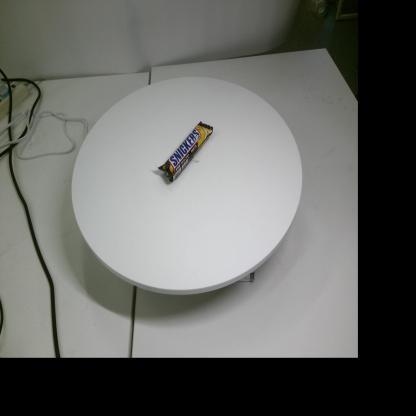Chocolate: (156, 121, 213, 182)
